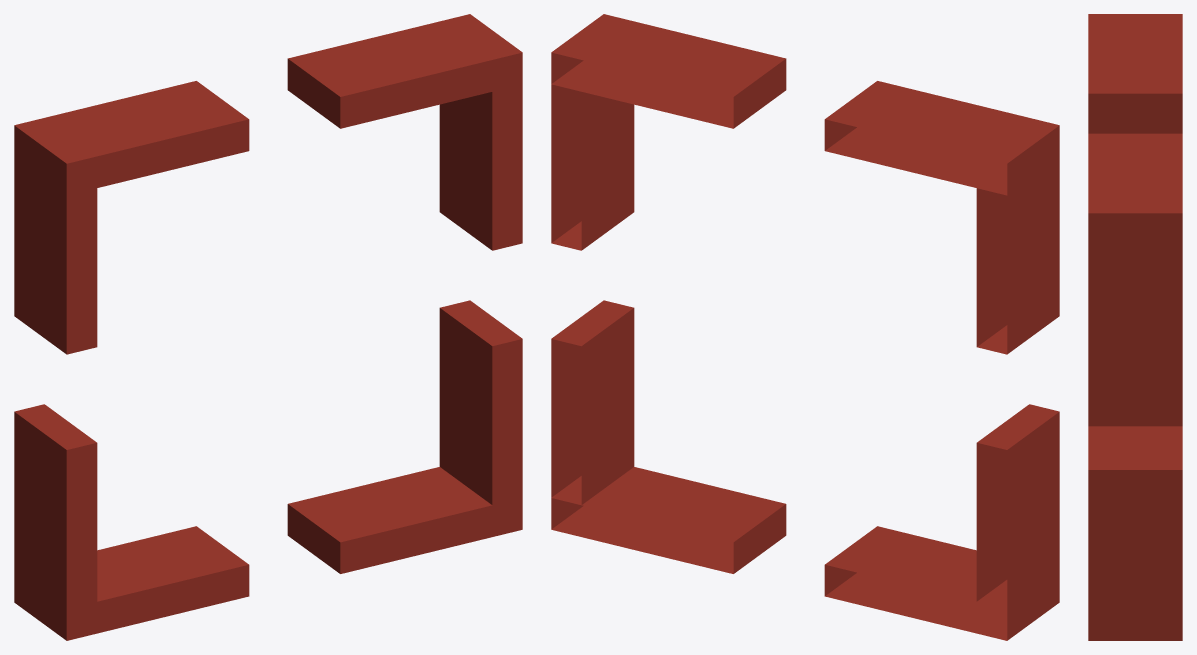
Rendered from construction_0.glb.
3 renders of one model, left to right at view 1: azimuth 30°, elevation 25°; view 2: azimuth 150°, elevation 25°; view 3: azimuth 270°, elevation 25°, orthographic. The views are drawn at different scales.
Parts seen in each view (by area): view 1: construction_0; view 2: construction_0; view 3: construction_0.
Part boxes in pixels (x1,y1,x2,y2): construction_0: [14, 14, 522, 640]; construction_0: [551, 14, 1059, 640]; construction_0: [1088, 14, 1182, 640].
Bounding box in the file's own units: 9 × 9 × 1.8.
